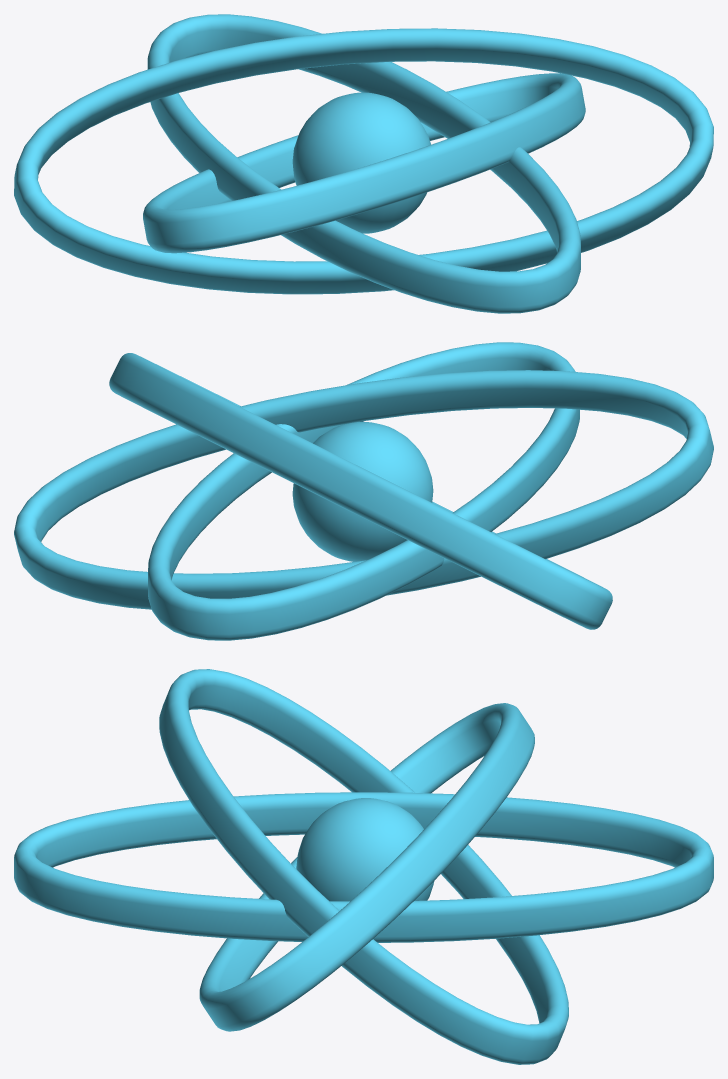
File: react.glb
The picture shows the model from 3 angles, top to bottom: view 1: azimuth 30°, elevation 25°; view 2: azimuth 150°, elevation 25°; view 3: azimuth 270°, elevation 25°; orthographic projection.
Parts seen in each view (by area): view 1: Curve.003, Curve.001, Curve.002, Sphere; view 2: Curve.002, Curve.001, Curve.003, Sphere; view 3: Curve.001, Curve.002, Curve.003, Sphere.
Boxes of the visible parts, bbox=[...] form: Curve.003: bbox=[14, 28, 713, 294]; Curve.001: bbox=[147, 14, 580, 313]; Curve.002: bbox=[143, 73, 585, 253]; Sphere: bbox=[292, 92, 430, 233]; Curve.002: bbox=[14, 370, 713, 609]; Curve.001: bbox=[148, 342, 579, 640]; Curve.003: bbox=[109, 353, 612, 629]; Sphere: bbox=[292, 422, 433, 561]; Curve.001: bbox=[14, 792, 713, 942]; Curve.002: bbox=[159, 669, 568, 1064]; Curve.003: bbox=[199, 703, 534, 1031]; Sphere: bbox=[296, 798, 434, 901].
Size of the model in its own units: 1.91 by 0.5445 by 2.01.
